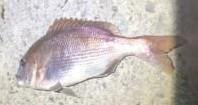fish: (15, 17, 187, 97)
